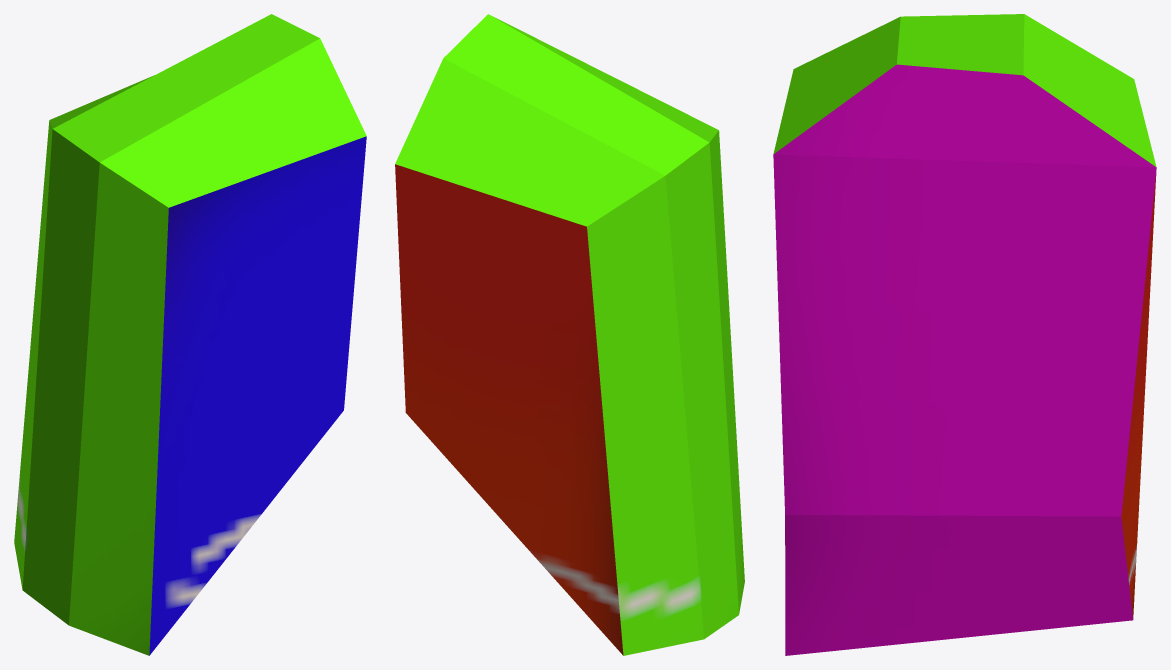
Rendered from Statue1-1.fbx.
The picture shows the model from 3 angles, left to right: view 1: azimuth 30°, elevation 25°; view 2: azimuth 150°, elevation 25°; view 3: azimuth 270°, elevation 25°; orthographic projection. The views are drawn at different scales.
Parts seen in each view (by area): view 1: Cube.003; view 2: Cube.003; view 3: Cube.003.
Boxes of the visible parts, x1,y1,x2,y2 form: Cube.003: [14, 14, 366, 655]; Cube.003: [395, 14, 744, 655]; Cube.003: [773, 14, 1156, 655].
Size of the model in its own units: 78.8 by 157 by 74.66.
